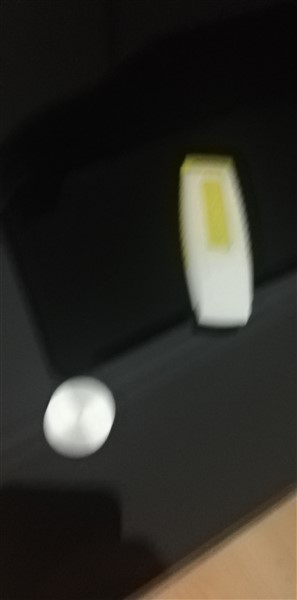flash disk: (169, 148, 261, 330)
